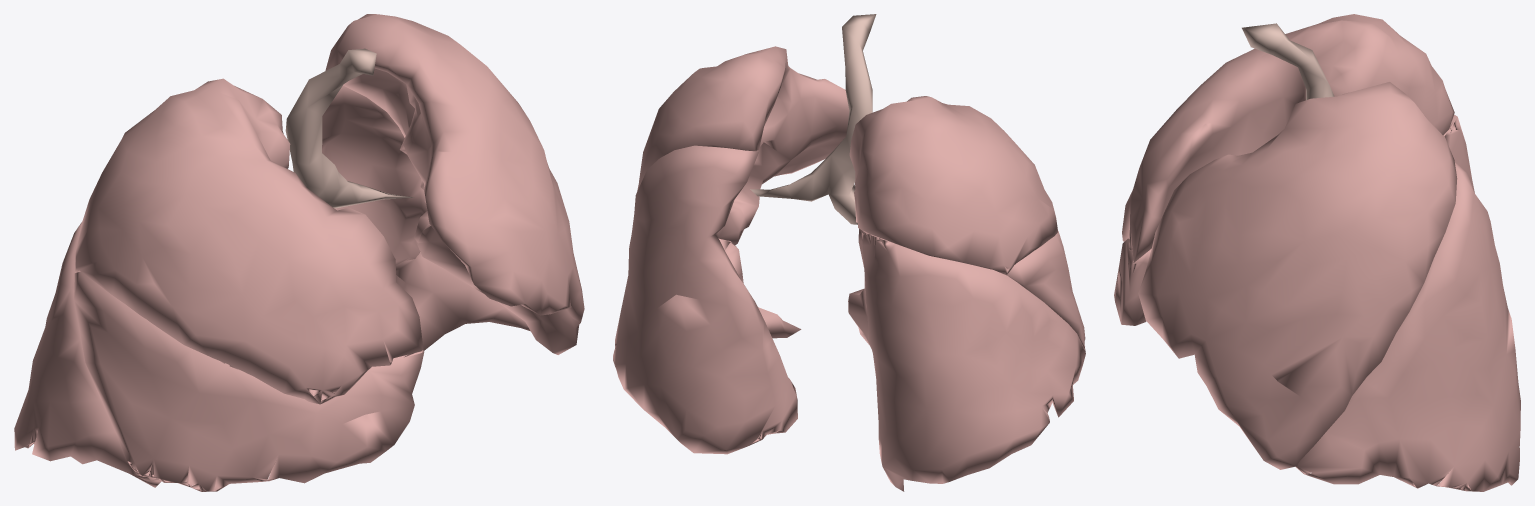
Rendered from tsd_s0196_older_adult_female.respiratory.LOD4.glb.
3 views of the same model, side by side, from view 1: azimuth 30°, elevation 25°; view 2: azimuth 150°, elevation 25°; view 3: azimuth 270°, elevation 25° (orthographic). The views are drawn at different scales.
Parts seen in each view (by area): view 1: TSD_S0196.OLDER_ADULT.FEMALE.RESPIRATORY.SUPERIOR_LOBE_OF_RI, TSD_S0196.OLDER_ADULT.FEMALE.RESPIRATORY.SUPERIOR_LOBE_OF_LE, TSD_S0196.OLDER_ADULT.FEMALE.RESPIRATORY.MIDDLE_LOBE_OF_RIGH, TSD_S0196.OLDER_ADULT.FEMALE.RESPIRATORY.INFERIOR_LOBE_OF_LE, TSD_S0196.OLDER_ADULT.FEMALE.RESPIRATORY.INFERIOR_LOBE_OF_RI, TSD_S0196.OLDER_ADULT.FEMALE.RESPIRATORY.TRACHEA; view 2: TSD_S0196.OLDER_ADULT.FEMALE.RESPIRATORY.INFERIOR_LOBE_OF_RI, TSD_S0196.OLDER_ADULT.FEMALE.RESPIRATORY.INFERIOR_LOBE_OF_LE, TSD_S0196.OLDER_ADULT.FEMALE.RESPIRATORY.SUPERIOR_LOBE_OF_RI, TSD_S0196.OLDER_ADULT.FEMALE.RESPIRATORY.SUPERIOR_LOBE_OF_LE, TSD_S0196.OLDER_ADULT.FEMALE.RESPIRATORY.TRACHEA, TSD_S0196.OLDER_ADULT.FEMALE.RESPIRATORY.MIDDLE_LOBE_OF_RIGH; view 3: TSD_S0196.OLDER_ADULT.FEMALE.RESPIRATORY.SUPERIOR_LOBE_OF_LE, TSD_S0196.OLDER_ADULT.FEMALE.RESPIRATORY.INFERIOR_LOBE_OF_LE, TSD_S0196.OLDER_ADULT.FEMALE.RESPIRATORY.SUPERIOR_LOBE_OF_RI, TSD_S0196.OLDER_ADULT.FEMALE.RESPIRATORY.TRACHEA, TSD_S0196.OLDER_ADULT.FEMALE.RESPIRATORY.MIDDLE_LOBE_OF_RIGH, TSD_S0196.OLDER_ADULT.FEMALE.RESPIRATORY.INFERIOR_LOBE_OF_RI.
Boxes of the visible parts, x1,y1,x2,y2 form: TSD_S0196.OLDER_ADULT.FEMALE.RESPIRATORY.SUPERIOR_LOBE_OF_RI: [75, 78, 423, 404]; TSD_S0196.OLDER_ADULT.FEMALE.RESPIRATORY.SUPERIOR_LOBE_OF_LE: [325, 14, 584, 354]; TSD_S0196.OLDER_ADULT.FEMALE.RESPIRATORY.MIDDLE_LOBE_OF_RIGH: [74, 271, 424, 491]; TSD_S0196.OLDER_ADULT.FEMALE.RESPIRATORY.INFERIOR_LOBE_OF_LE: [322, 85, 530, 356]; TSD_S0196.OLDER_ADULT.FEMALE.RESPIRATORY.INFERIOR_LOBE_OF_RI: [14, 221, 161, 487]; TSD_S0196.OLDER_ADULT.FEMALE.RESPIRATORY.TRACHEA: [285, 48, 413, 208]; TSD_S0196.OLDER_ADULT.FEMALE.RESPIRATORY.INFERIOR_LOBE_OF_RI: [848, 228, 1085, 491]; TSD_S0196.OLDER_ADULT.FEMALE.RESPIRATORY.INFERIOR_LOBE_OF_LE: [613, 145, 801, 454]; TSD_S0196.OLDER_ADULT.FEMALE.RESPIRATORY.SUPERIOR_LOBE_OF_RI: [849, 96, 1057, 275]; TSD_S0196.OLDER_ADULT.FEMALE.RESPIRATORY.SUPERIOR_LOBE_OF_LE: [637, 46, 849, 244]; TSD_S0196.OLDER_ADULT.FEMALE.RESPIRATORY.TRACHEA: [750, 14, 876, 224]; TSD_S0196.OLDER_ADULT.FEMALE.RESPIRATORY.MIDDLE_LOBE_OF_RIGH: [1007, 231, 1085, 349]; TSD_S0196.OLDER_ADULT.FEMALE.RESPIRATORY.SUPERIOR_LOBE_OF_LE: [1138, 82, 1457, 469]; TSD_S0196.OLDER_ADULT.FEMALE.RESPIRATORY.INFERIOR_LOBE_OF_LE: [1295, 162, 1520, 491]; TSD_S0196.OLDER_ADULT.FEMALE.RESPIRATORY.SUPERIOR_LOBE_OF_RI: [1122, 14, 1454, 262]; TSD_S0196.OLDER_ADULT.FEMALE.RESPIRATORY.TRACHEA: [1242, 23, 1334, 100]; TSD_S0196.OLDER_ADULT.FEMALE.RESPIRATORY.MIDDLE_LOBE_OF_RIGH: [1114, 238, 1151, 325]; TSD_S0196.OLDER_ADULT.FEMALE.RESPIRATORY.INFERIOR_LOBE_OF_RI: [1443, 114, 1474, 192].
Size of the model in its own units: 0.2528 by 0.2135 by 0.1818.
